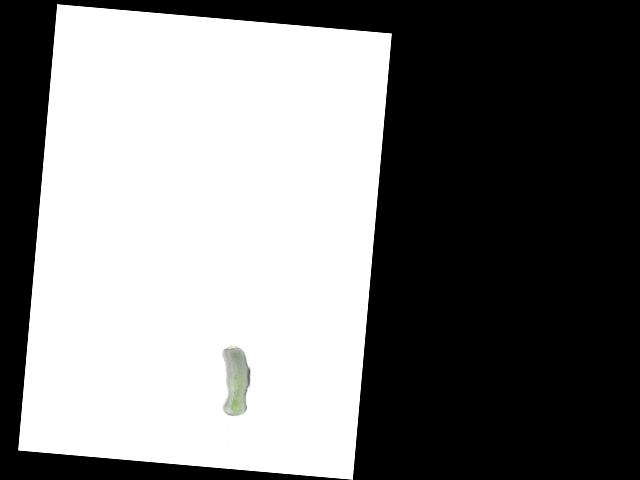cucumber: (217, 344, 252, 416)
